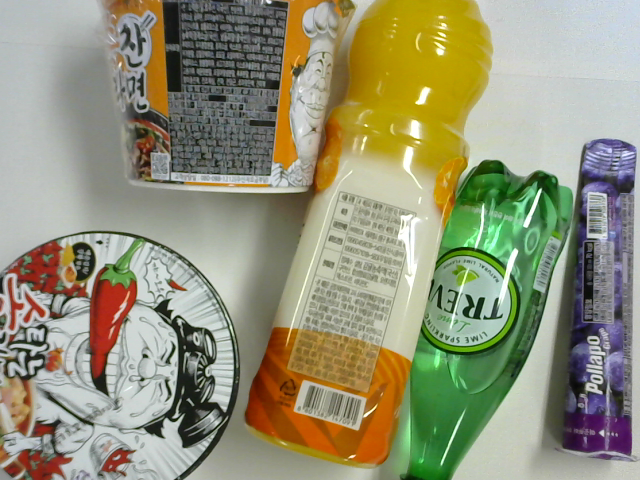HeJangsock: (1, 225, 240, 479)
Hejangchan: (94, 1, 354, 193)
Jeju_Tangerine_1.5L: (238, 1, 498, 473)
Polapo_Grape: (562, 141, 640, 461)
Treviraim_500ml: (398, 153, 576, 479)
